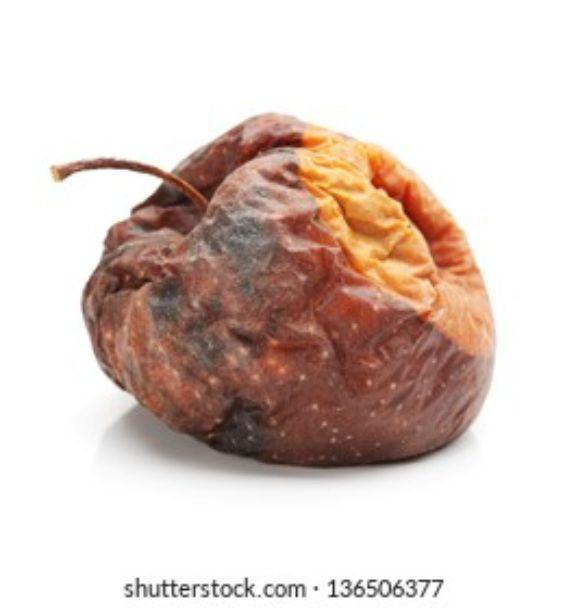ROT: (45, 81, 518, 484)
